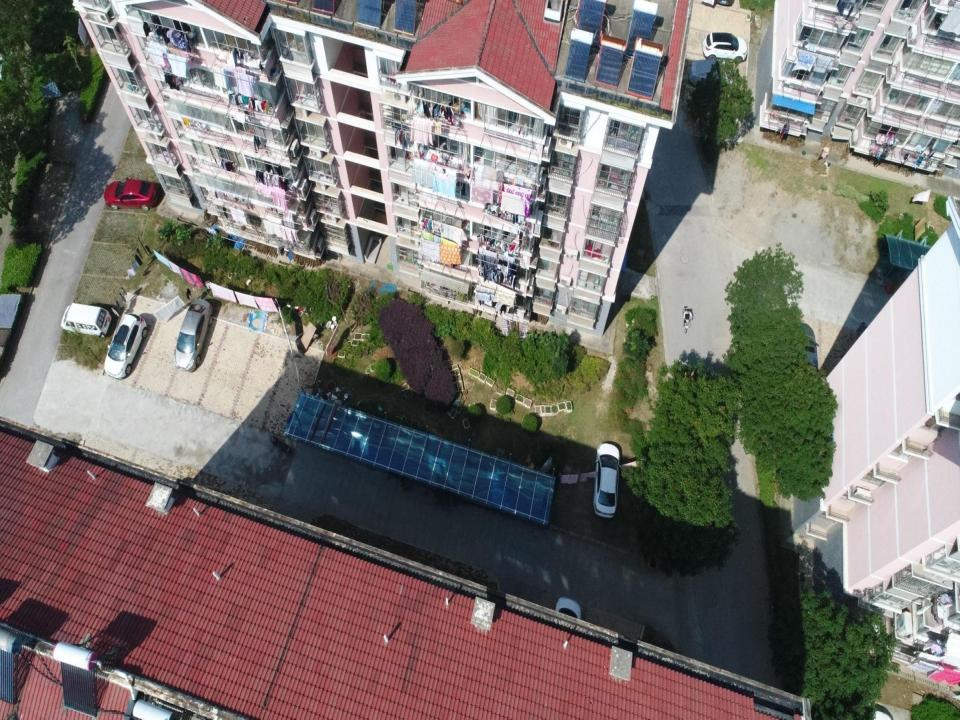car: (174, 296, 213, 374), (104, 312, 147, 380), (593, 443, 620, 520), (104, 179, 158, 210), (690, 58, 739, 88), (701, 32, 748, 62), (793, 321, 818, 373), (554, 597, 582, 623)
van: (61, 302, 111, 338)
